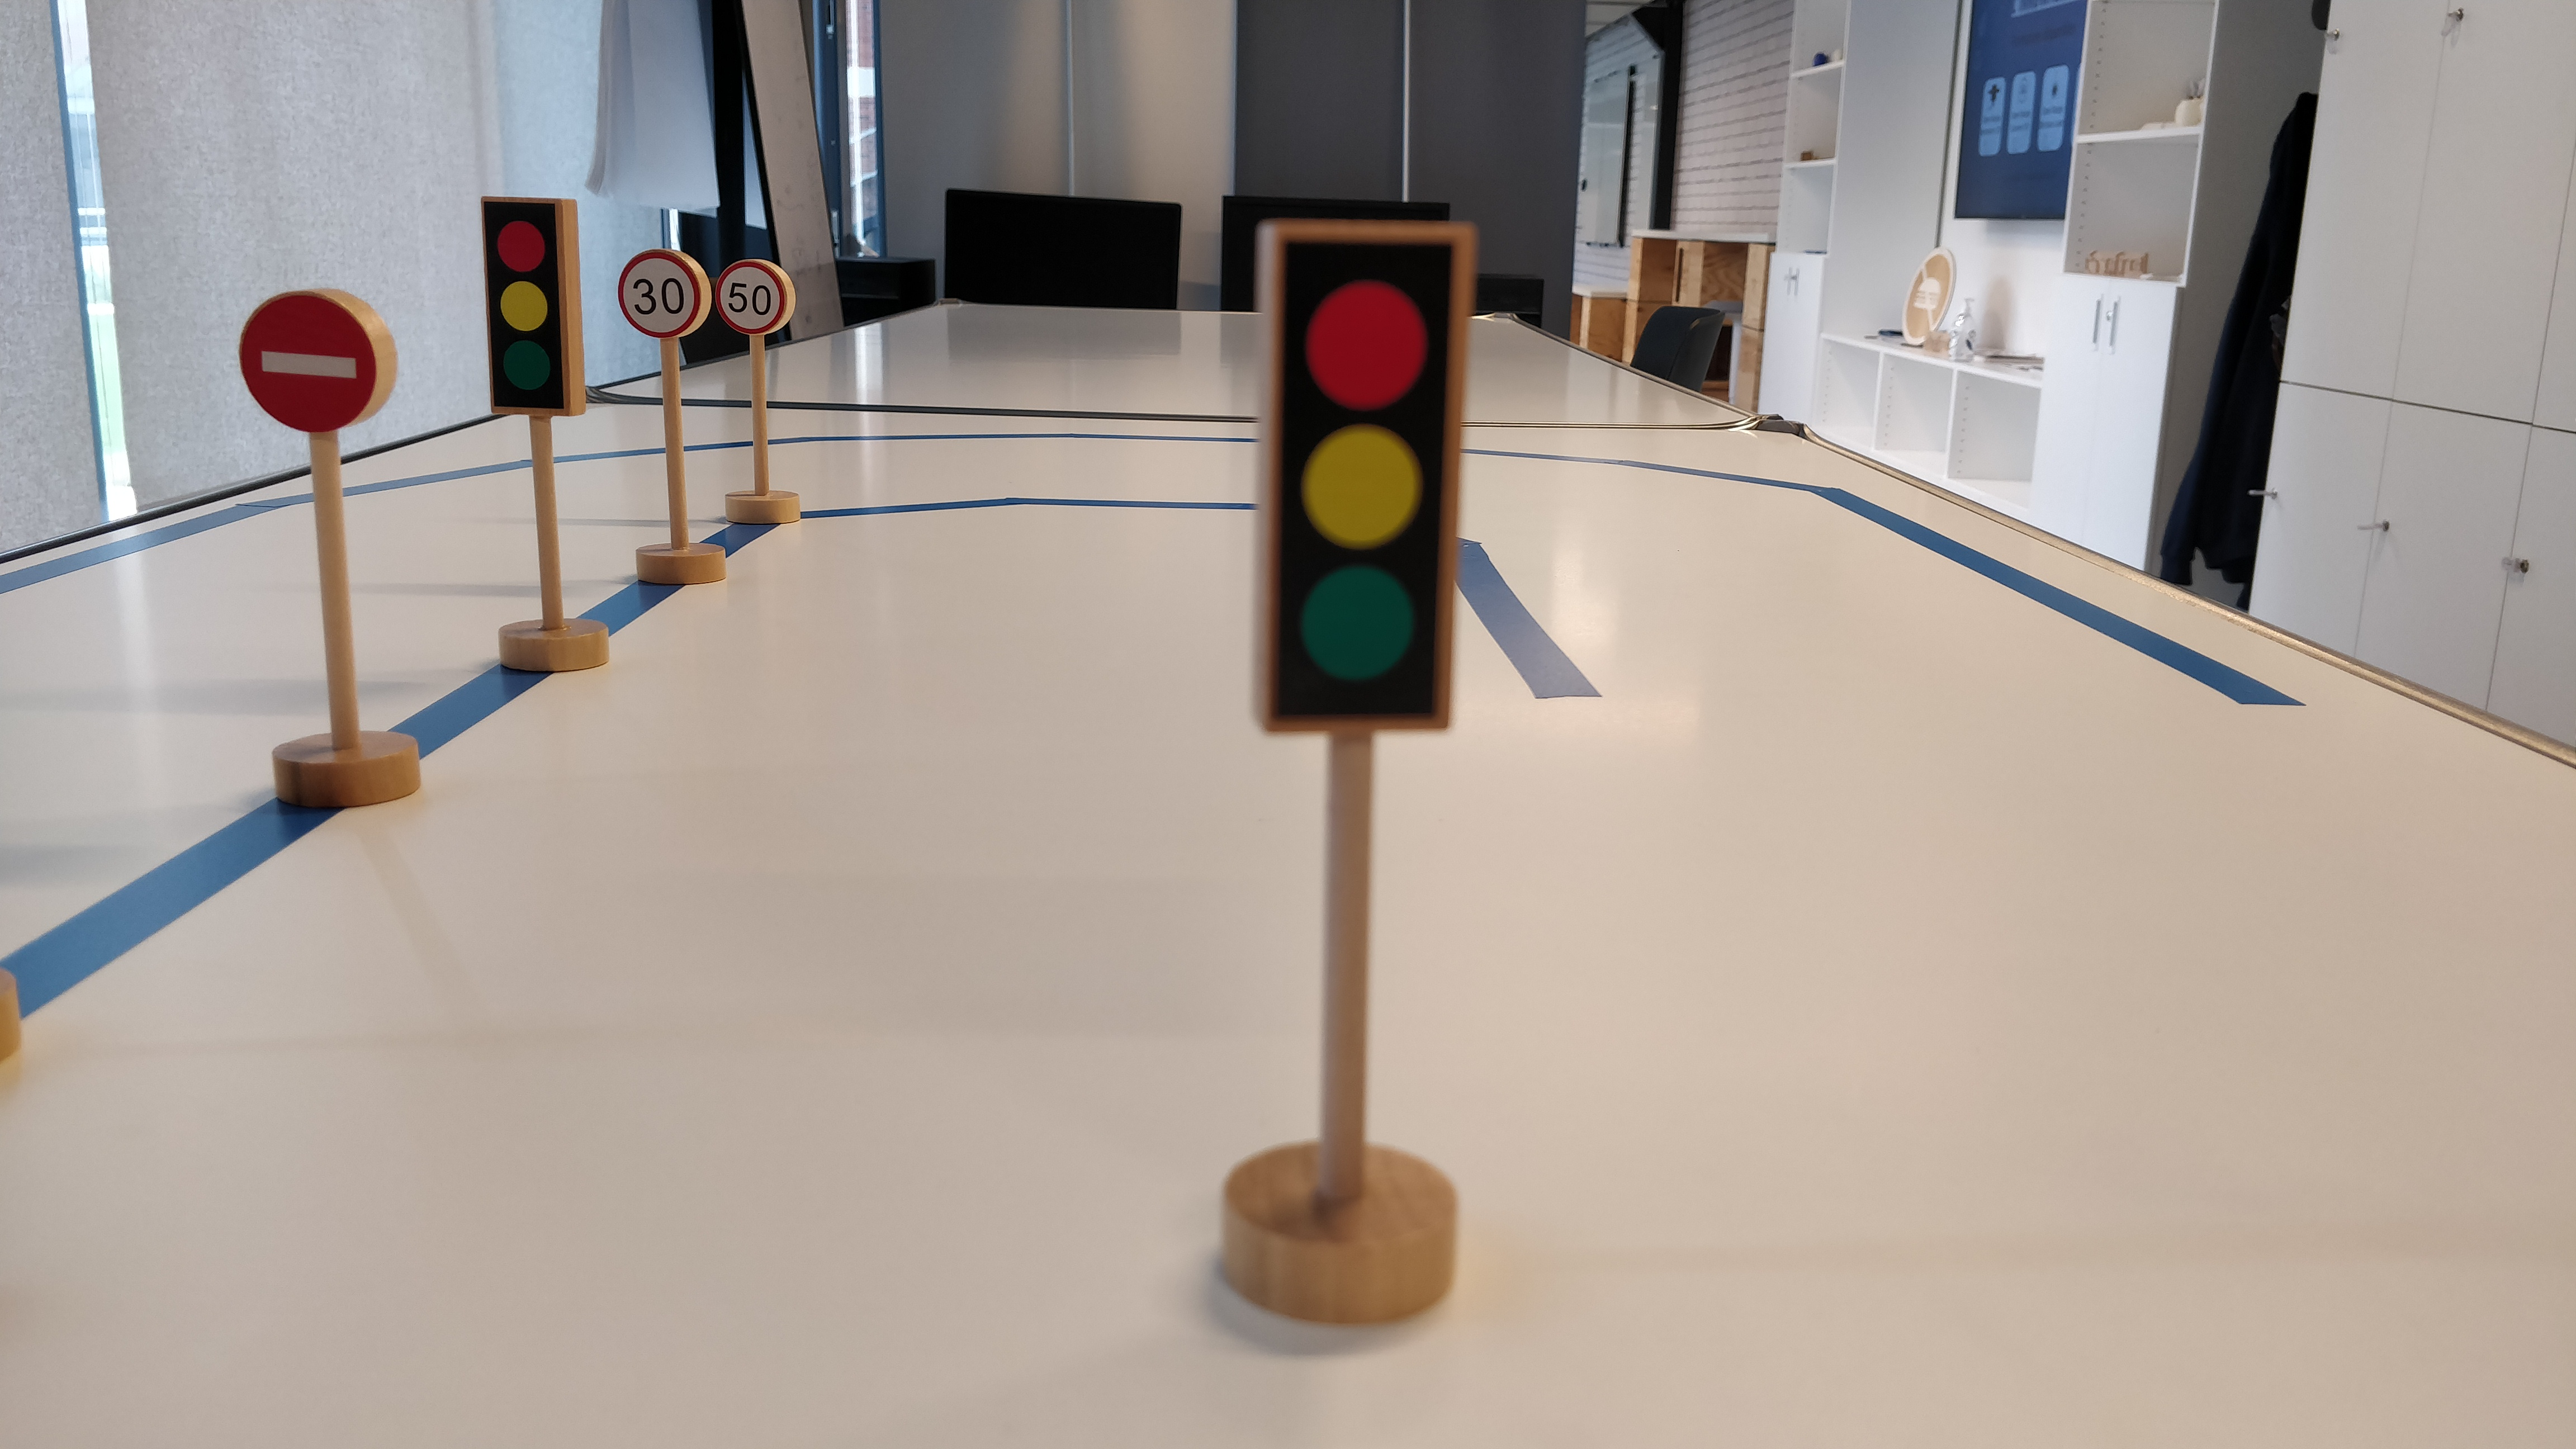Prohibition Sign: (241, 288, 398, 432)
Speed Limit 30: (614, 245, 711, 338)
Speed Limit 50: (717, 259, 795, 338)
Traffic Light: (1245, 222, 1476, 735), (478, 188, 589, 424)
